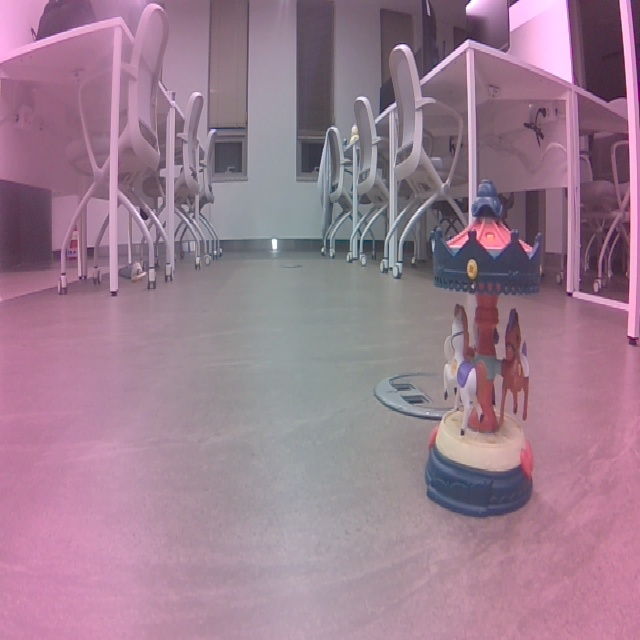목적지: (541, 158, 640, 511)
